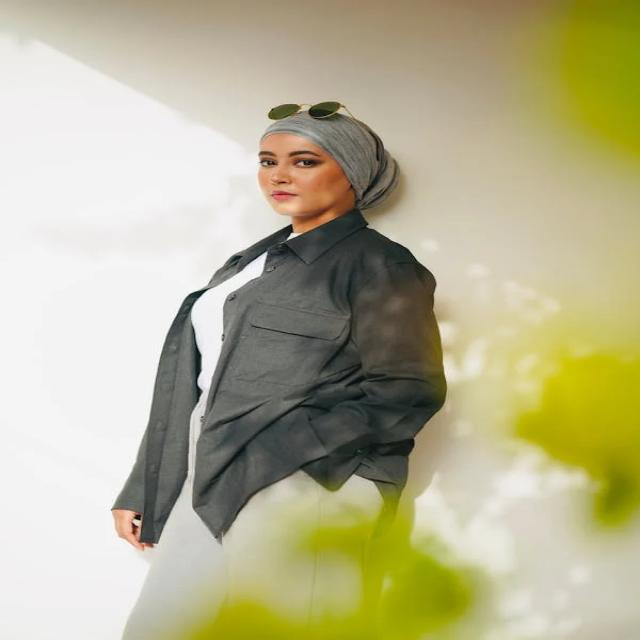Real human 2: (94, 74, 483, 640)
